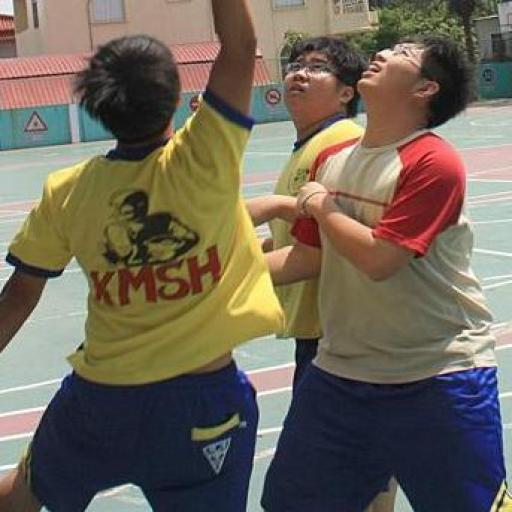person: (0, 0, 283, 511), (262, 36, 511, 511), (275, 36, 367, 206), (275, 37, 367, 197)
